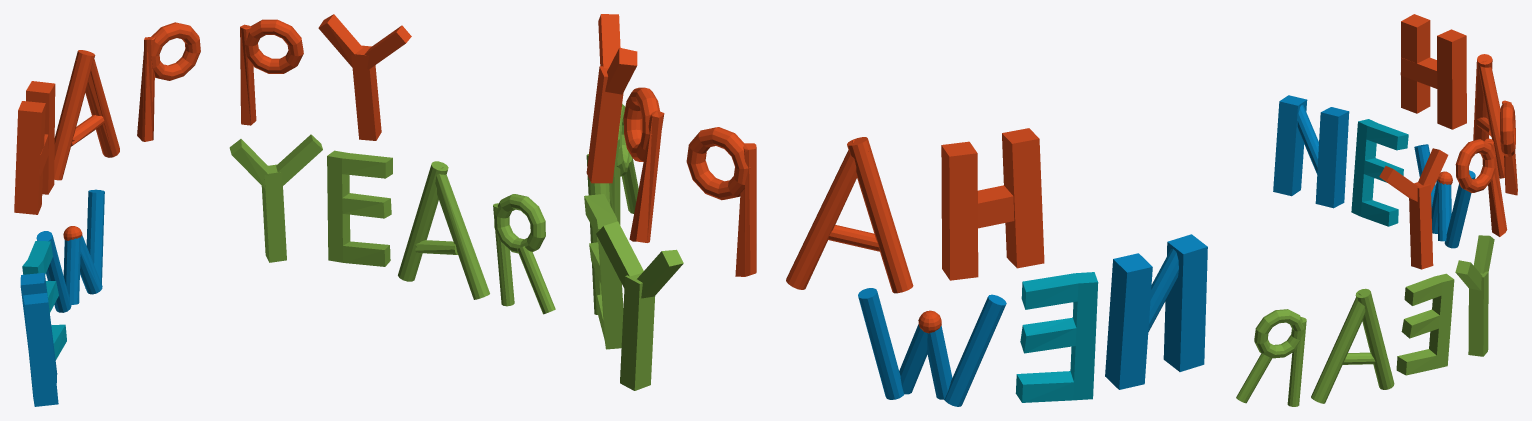
3 renders of one model, left to right at view 1: azimuth 30°, elevation 25°; view 2: azimuth 150°, elevation 25°; view 3: azimuth 270°, elevation 25°, orthographic. The views are drawn at different scales.
Parts seen in each view (by area): view 1: node_MeshObject1413026816-PolyPaper21; view 2: node_MeshObject1413026816-PolyPaper21; view 3: node_MeshObject1413026816-PolyPaper21.
Boxes of the visible parts, x1,y1,x2,y2 form: node_MeshObject1413026816-PolyPaper21: (14, 14, 555, 406); node_MeshObject1413026816-PolyPaper21: (584, 14, 1207, 406); node_MeshObject1413026816-PolyPaper21: (1236, 14, 1517, 406).
Bounding box in the file's own units: 3.88 × 1.86 × 2.16.
